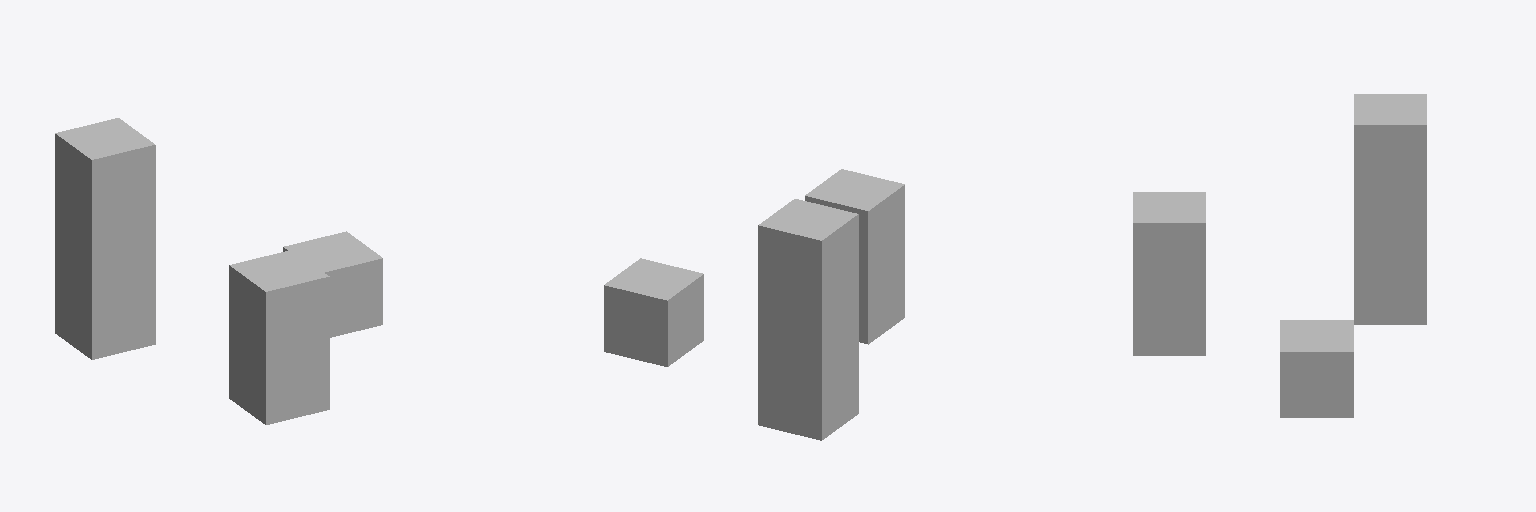
Rendered from Endless light Glow stone little models.obj.
3 renders of one model, left to right at view 1: azimuth 30°, elevation 25°; view 2: azimuth 150°, elevation 25°; view 3: azimuth 270°, elevation 25°, orthographic.
Visible parts, largest first — view 1: Glow_stone_little; view 2: Glow_stone_little; view 3: Glow_stone_little.
Part boxes in pixels (left/top/right/bottom): Glow_stone_little: left=55, top=118, right=382, bottom=424; Glow_stone_little: left=604, top=169, right=904, bottom=440; Glow_stone_little: left=1133, top=94, right=1426, bottom=417.
Bounding box in the file's own units: 0.72 × 0.54 × 0.72.